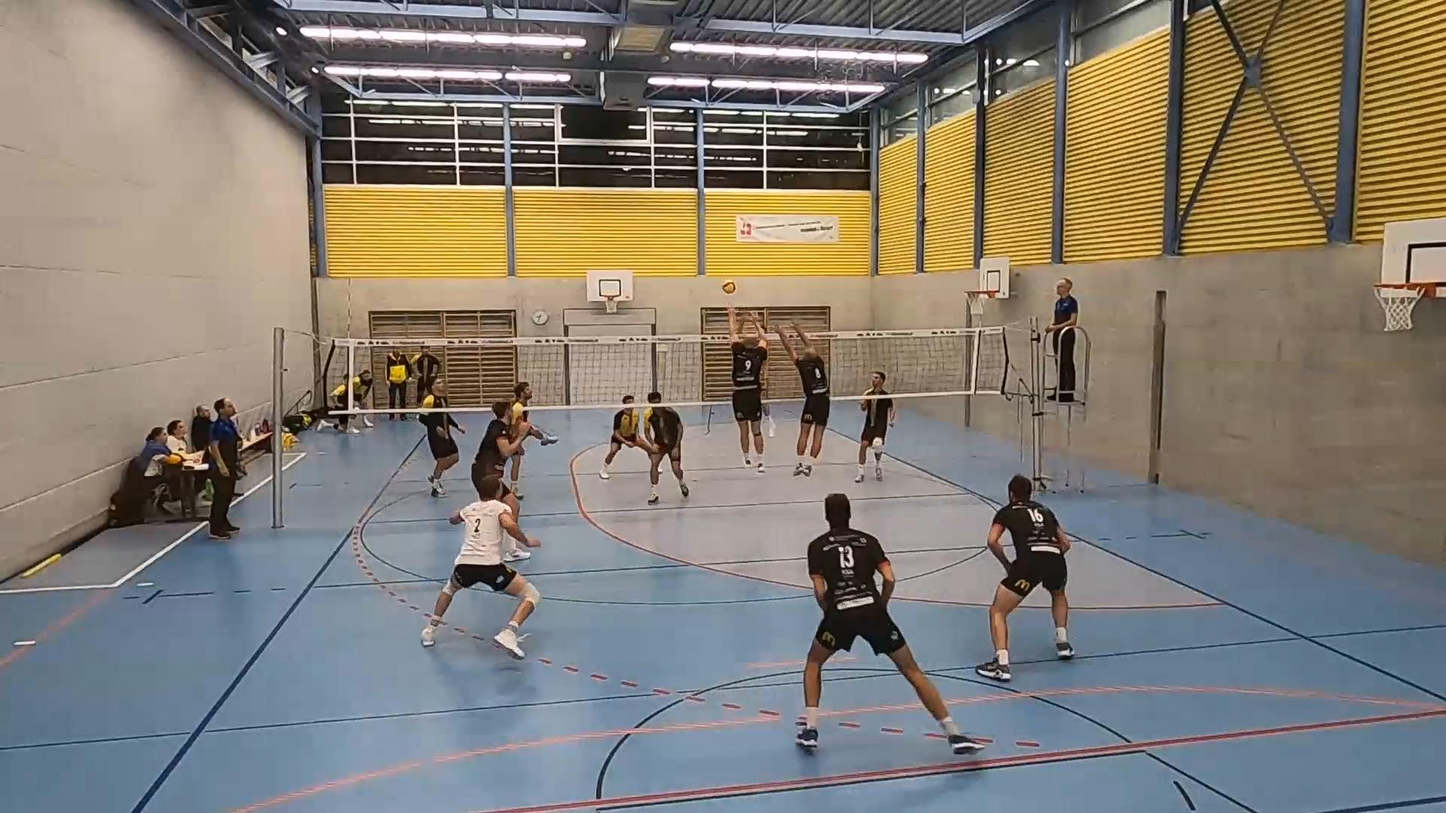Block: (774, 315, 836, 474), (723, 312, 772, 470)
Player: (796, 494, 983, 754), (421, 475, 541, 659), (975, 475, 1073, 681), (510, 382, 557, 498), (642, 391, 688, 504), (854, 371, 895, 482), (471, 400, 520, 489), (419, 412, 465, 497), (599, 394, 638, 479)
ball: (721, 280, 738, 292)
